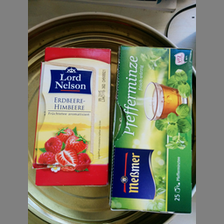tea: (109, 45, 193, 214), (34, 46, 112, 190)
